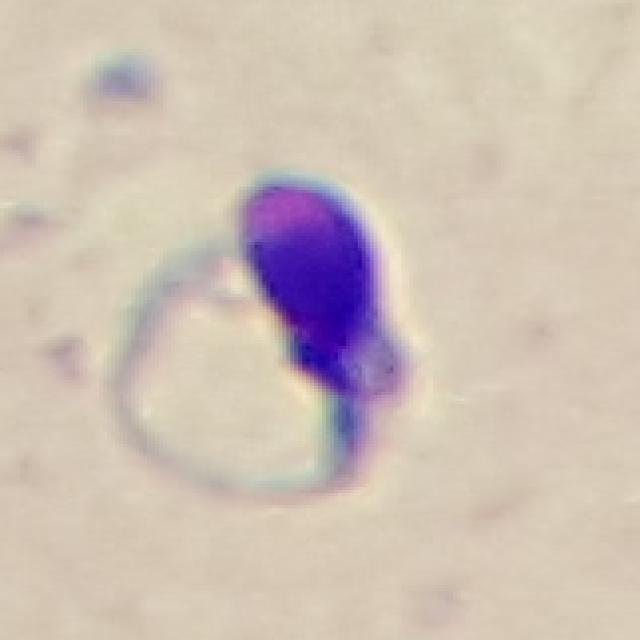abnormal sperm: (99, 172, 417, 532)
